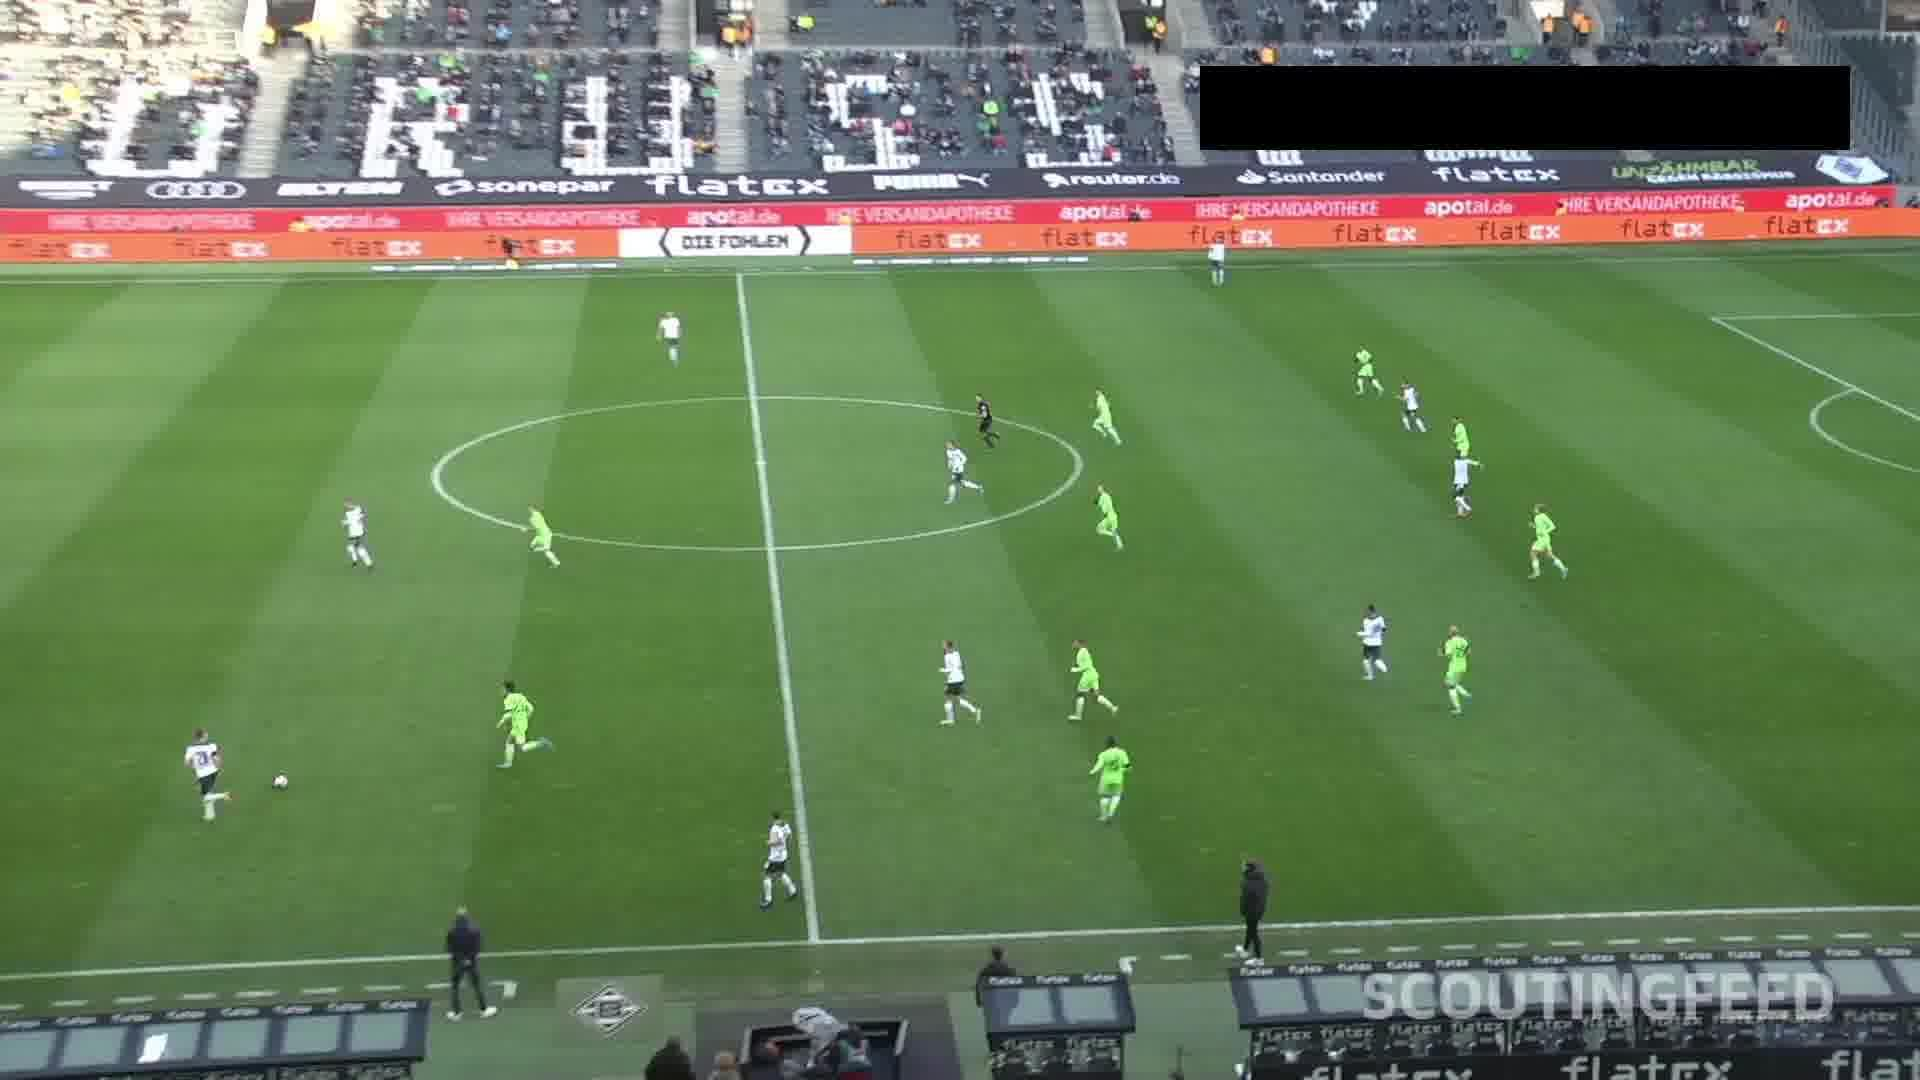football: (270, 773, 289, 791)
